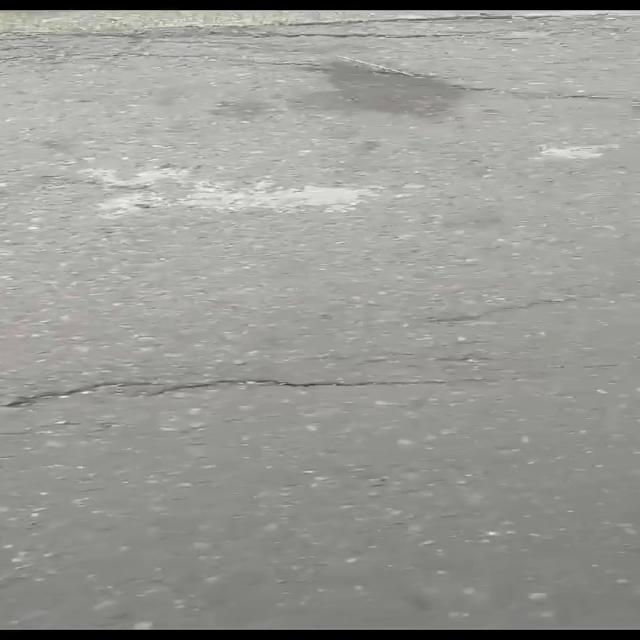Melintang: (4, 360, 477, 424)
